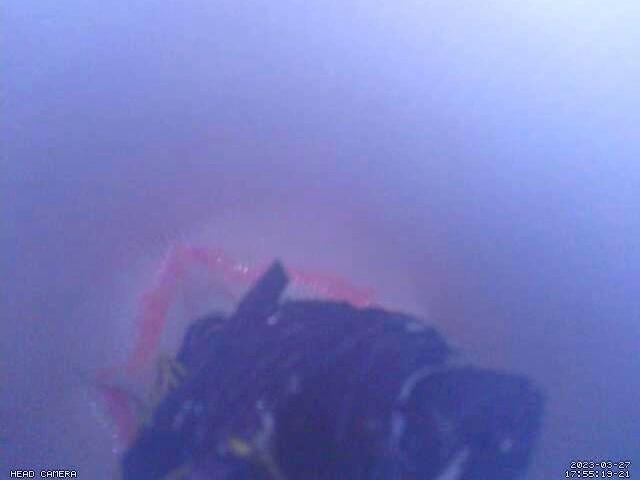head: (96, 240, 373, 444)
